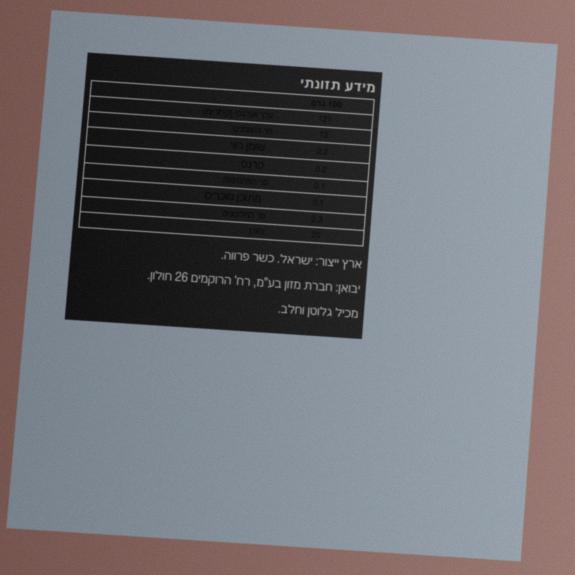carbs: (313, 181, 327, 192)
energy: (317, 114, 333, 125)
fat: (318, 129, 330, 140)
protein: (310, 214, 324, 225)
